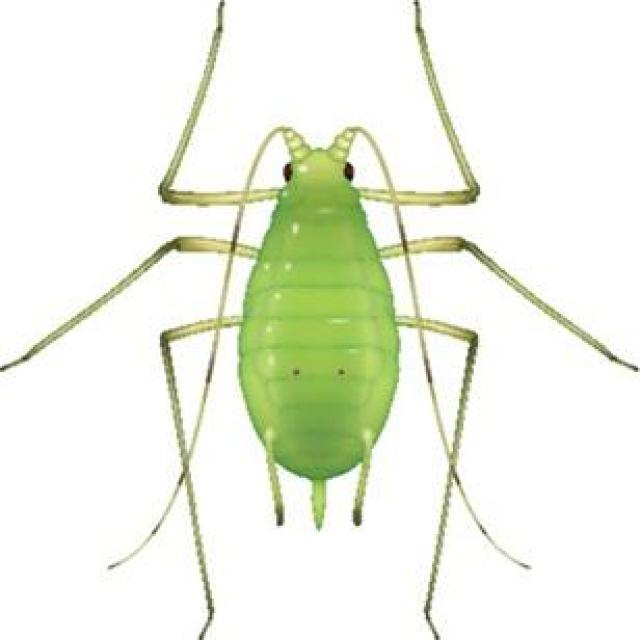Aphids: (64, 54, 609, 615)
